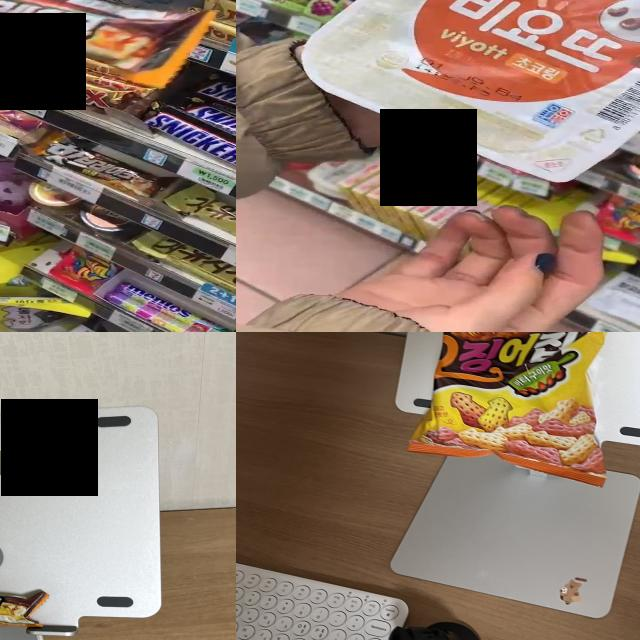bYott: (323, 0, 640, 166)
hotBreak: (0, 0, 219, 88), (0, 583, 41, 623)
ozingZip: (421, 332, 630, 470)
